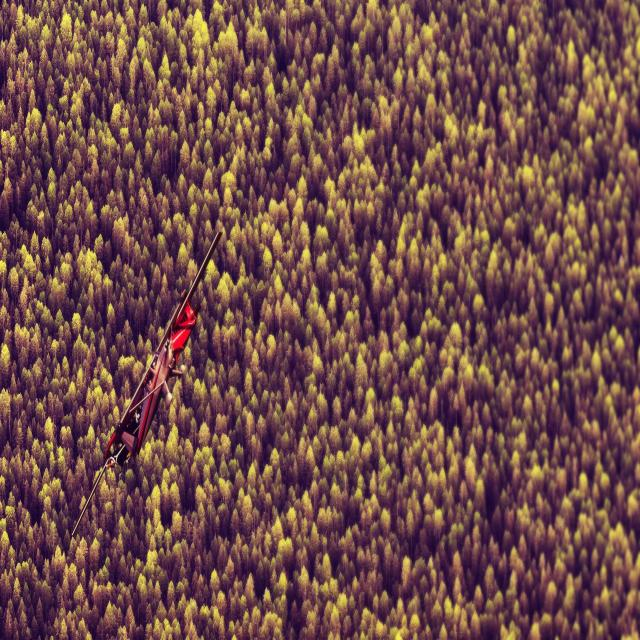airplane: (70, 228, 223, 538)
